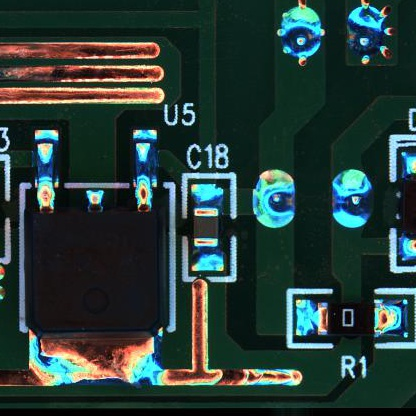spot: (275, 2, 326, 70), (344, 1, 396, 67), (252, 169, 295, 230), (332, 170, 372, 231)
